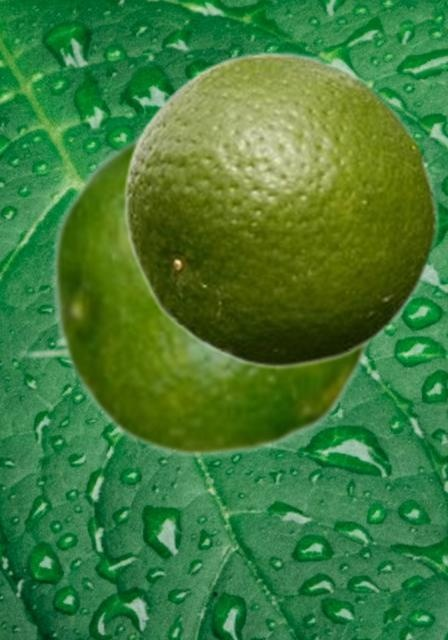calamansi: (49, 129, 372, 458), (123, 48, 439, 369)
